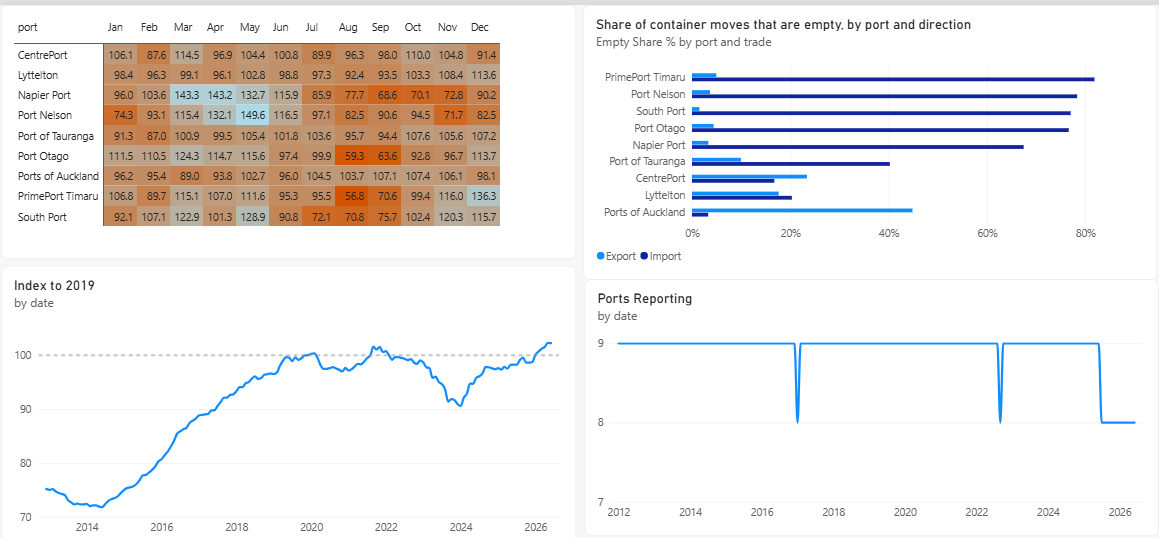

Layout of this report page (visuals, bound fields, positions):
{"tool":"powerbi","page":{"name":"Seasonality & disruption","canvas":[1920,1080],"ordinal":1},"visuals":[{"type":"pivotTable","fields":{"Columns":["dim_date.month_name"],"Rows":["dim_port.port"],"Values":["_Measures.Seasonal Index"]},"box":[10,0,766,338],"z":0},{"type":"lineChart","fields":{"Category":["dim_date.date"],"Y":["_Measures.Index to 2019"]},"box":[10,348,766,380],"z":1000},{"type":"lineChart","fields":{"Category":["dim_date.date"],"Y":["_Measures.Ports Reporting"]},"box":[788,366,766,342],"z":2000},{"type":"clusteredBarChart","title":"Share of container moves that are empty, by port and direction","fields":{"Category":["dim_port.port"],"Series":["dim_trade.trade"],"Y":["_Measures.Empty Share %"]},"box":[786,0,766,366],"z":3000}]}

Visuals, with their boxes on the page's 1920x1080 design canvas (x1, y1, x2, y2). These are canvas units, not pixel positions in the 1159x538 screenshot, which may show the page scaled, cropped or inside an application window:
pivotTable - dim_date.month_name x dim_port.port: 10:0:776:338
lineChart - dim_date.date x _Measures.Index to 2019: 10:348:776:728
lineChart - dim_date.date x _Measures.Ports Reporting: 788:366:1554:708
"Share of container moves that are empty, by port and direction" clusteredBarChart: 786:0:1552:366
